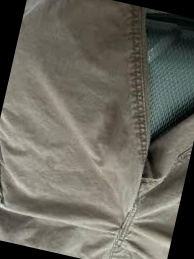oil: (90, 105, 131, 167), (44, 159, 56, 173)
